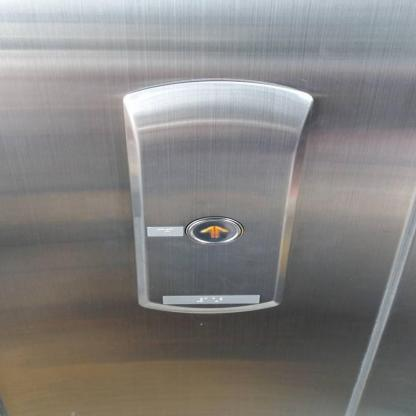up: (185, 216, 244, 247)
